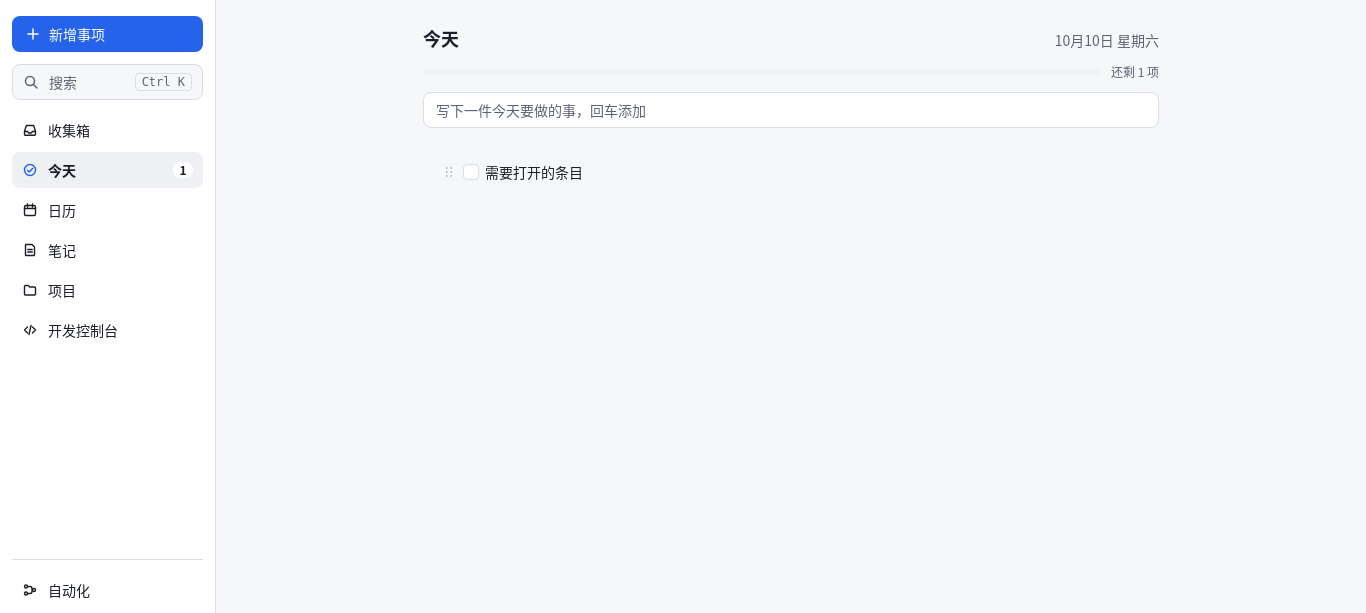
it: 搜索的可见操作与焦点 › 主窗口搜索在内容区打开详情并关闭搜索
Click the button "搜索 Ctrl K". click: (108, 82)
box: [12, 64, 203, 100]
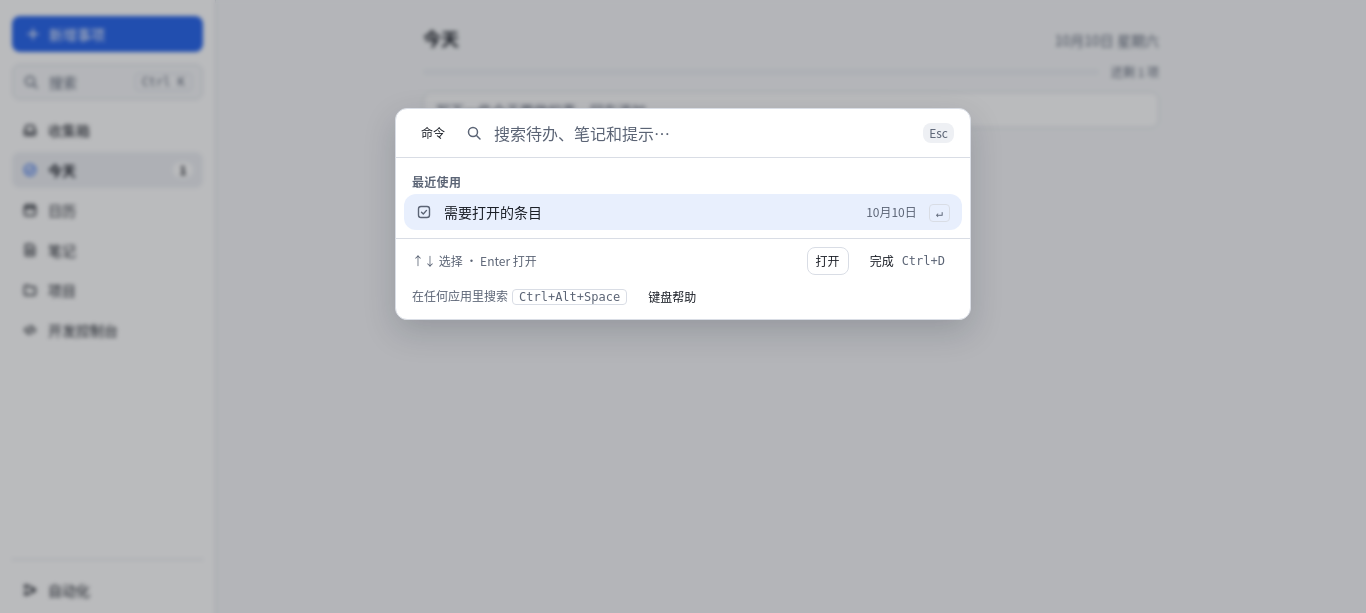
Now the option "需要打开的条目 10月10日 ↵" is shown, box [404, 194, 962, 230]
Click the button "打开". click: (828, 260)
box: [807, 246, 849, 274]
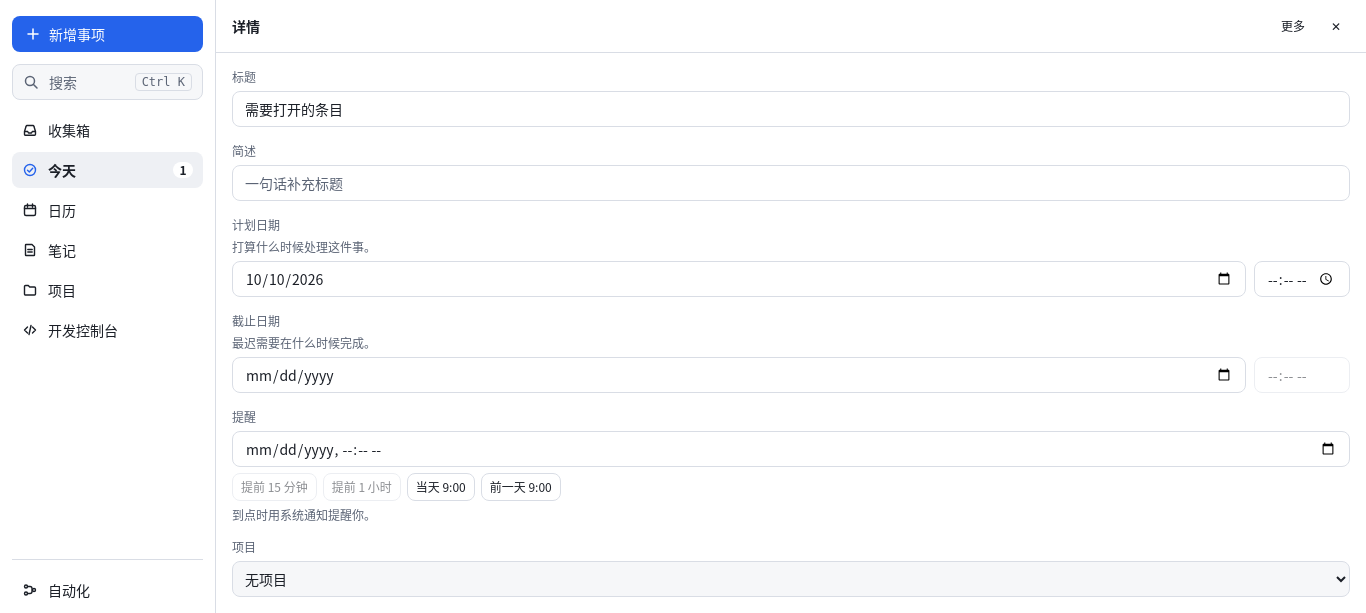
Now the field showing "需要打开的条目" is shown, box [232, 91, 1350, 127]
